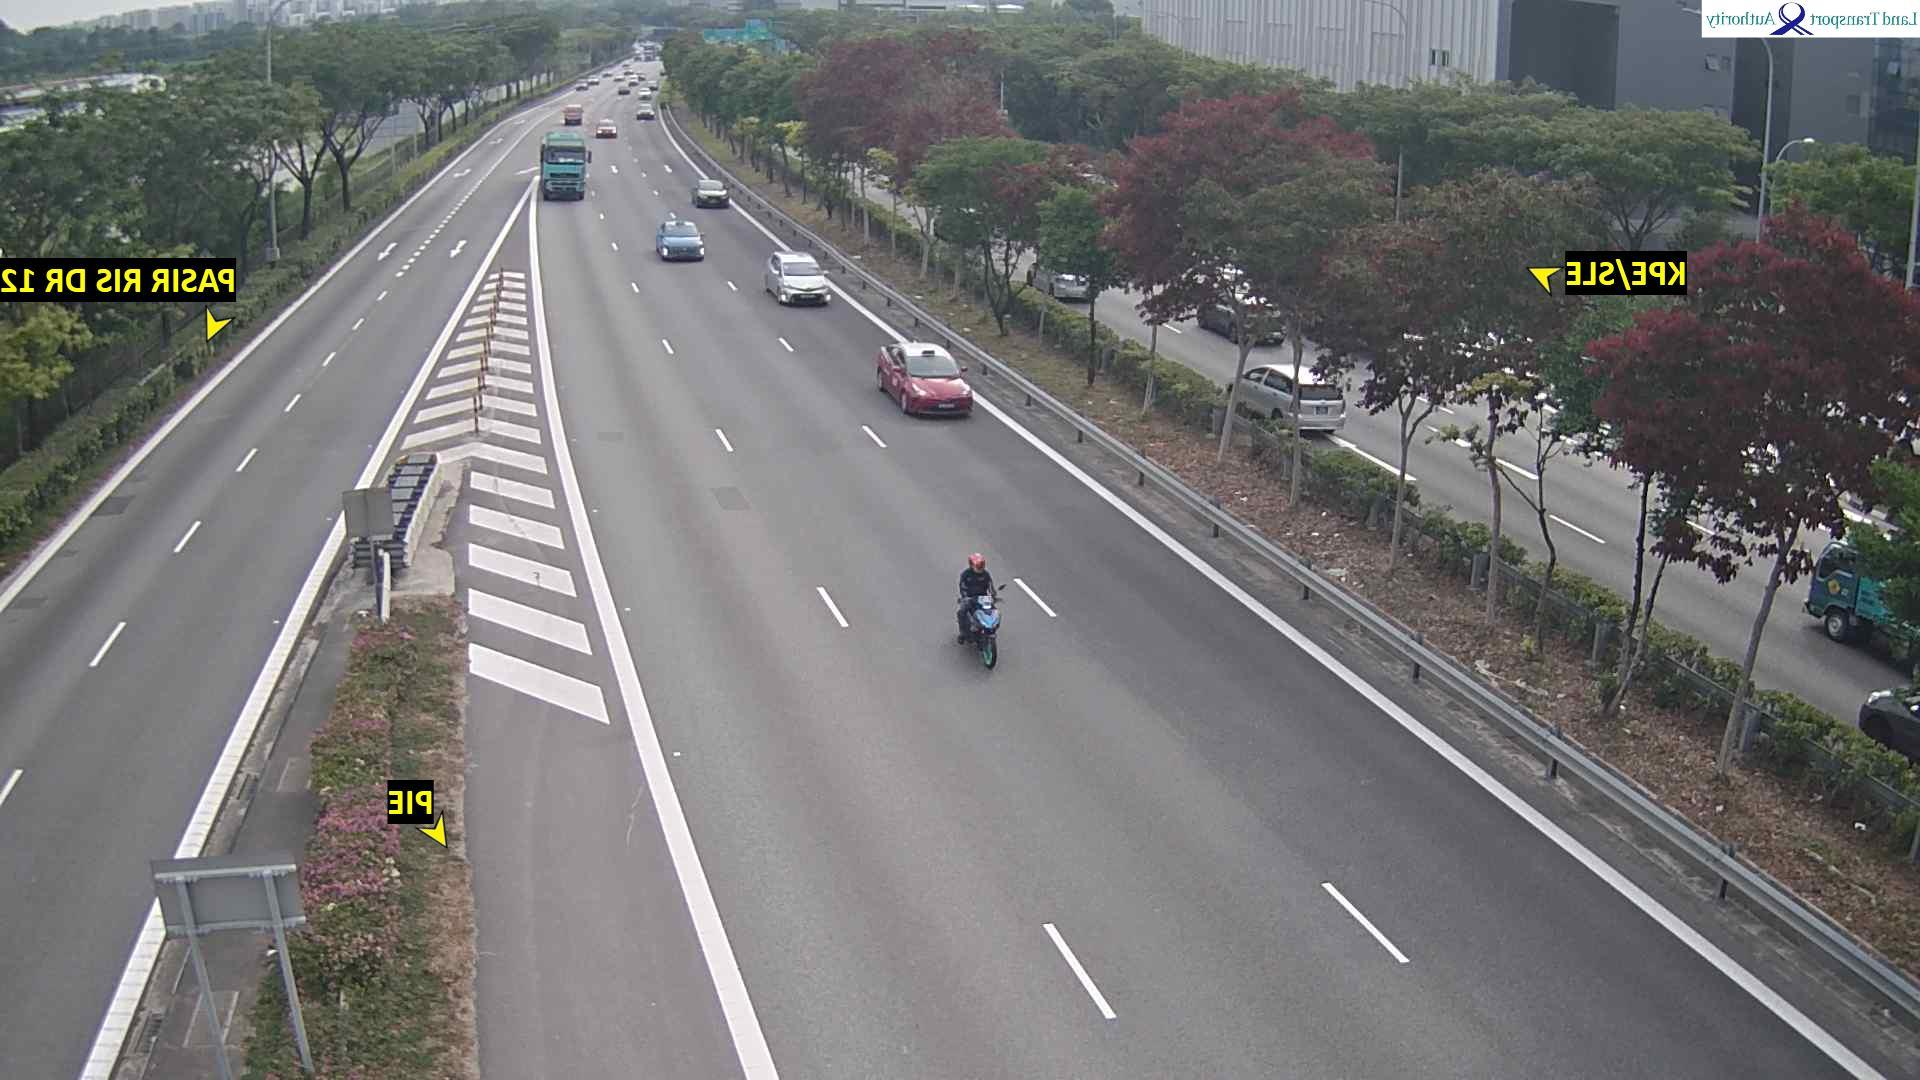cars: (1229, 362, 1349, 435), (877, 339, 975, 417), (1858, 682, 1920, 766), (1198, 293, 1287, 346), (765, 250, 831, 305), (656, 217, 706, 261), (1051, 271, 1094, 301), (693, 177, 732, 207), (596, 117, 619, 137), (563, 104, 584, 124), (636, 100, 657, 120), (639, 83, 658, 99), (617, 80, 635, 94), (574, 80, 589, 92), (656, 60, 668, 75)
motorcycle: (956, 582, 1009, 670)
trucks: (1804, 524, 1920, 669), (540, 128, 593, 200)
